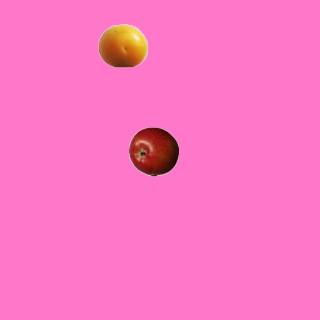Apple Braeburn: (128, 126, 178, 176)
Cherry Wax Yellow: (97, 20, 147, 70)
